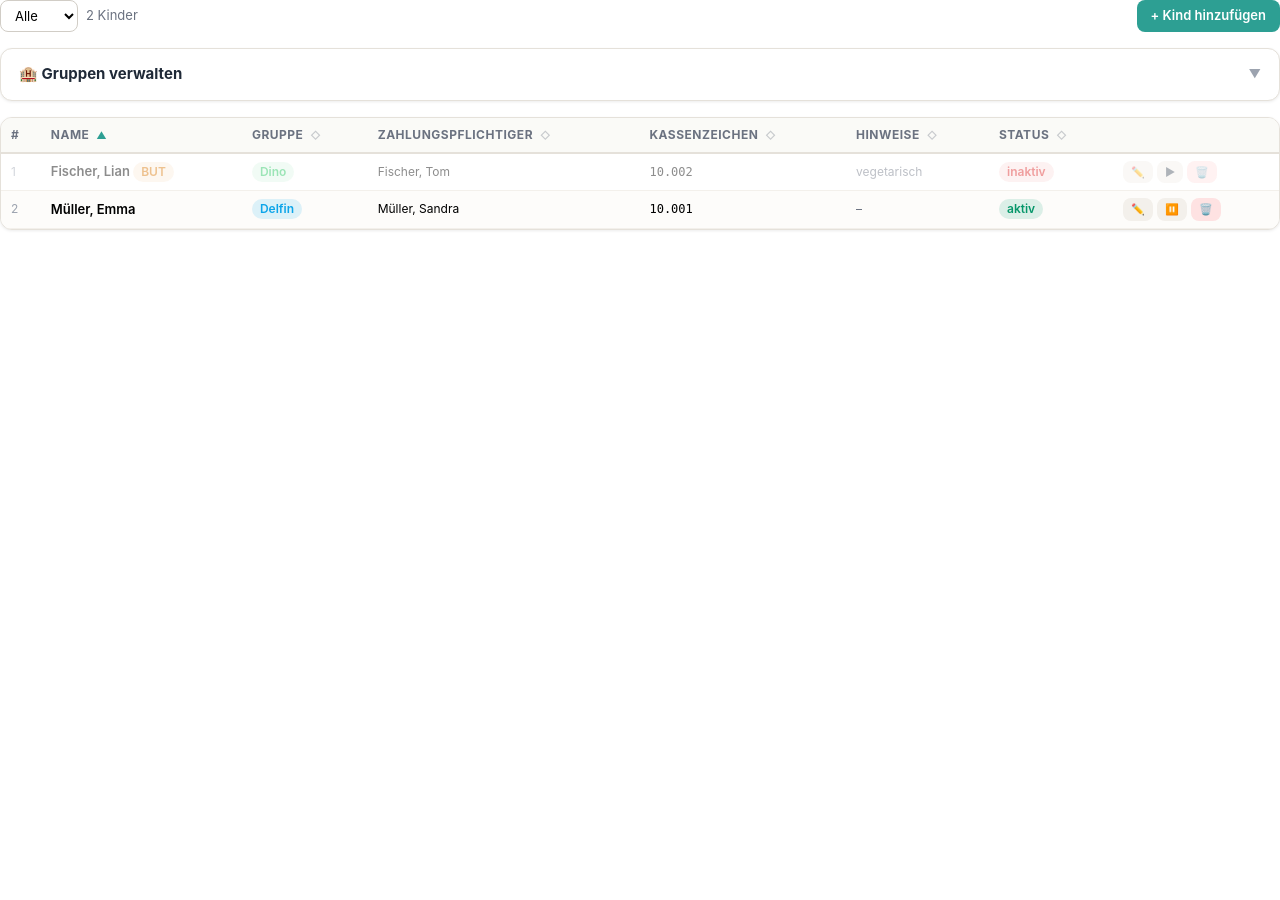
Stammdaten › Kind löschen › does not delete when cancel is clicked
Click the button "🗑️" in the row of "Fischer, Lian" at (1202, 172), box [1187,160,1217,183]
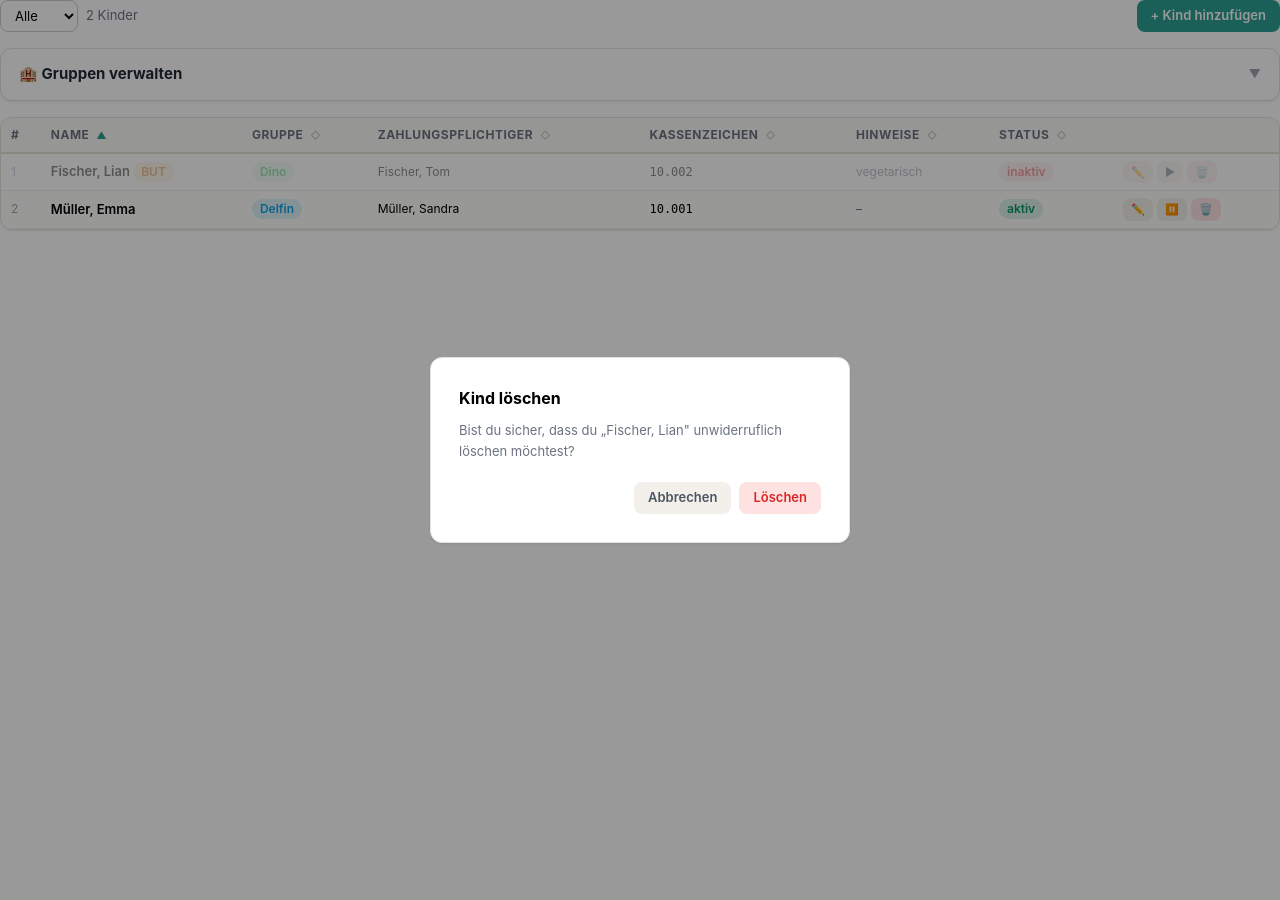
Click the button "Abbrechen" at (683, 498), box [634,482,731,514]
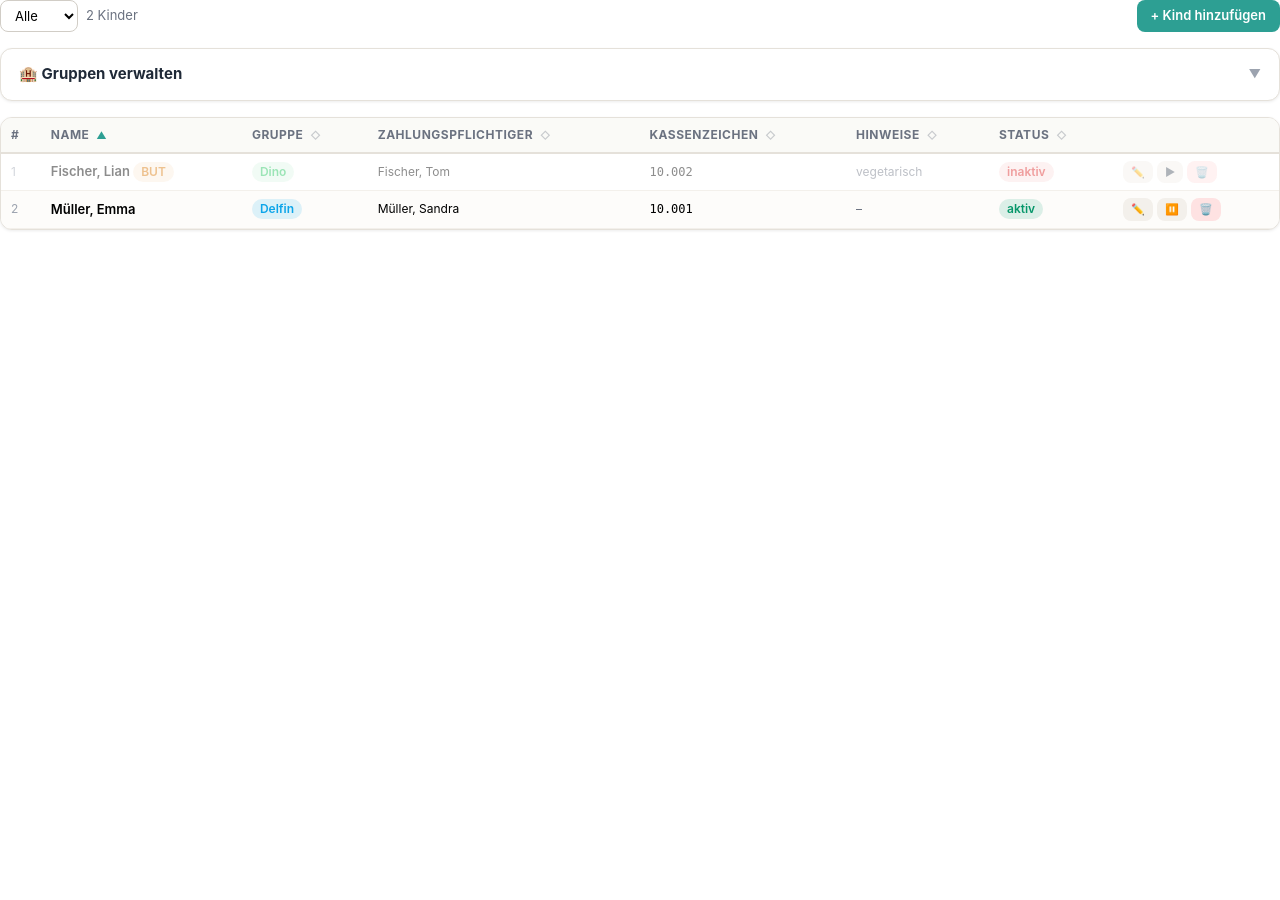
Now the text "Kind löschen" is gone
